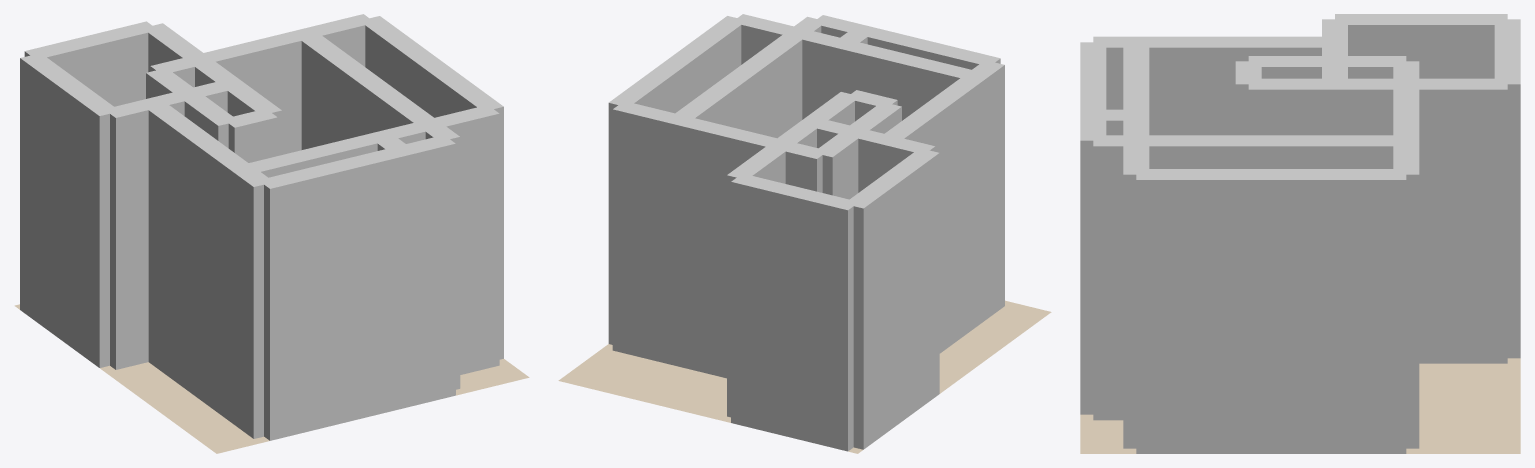
The model's file is 7a4206f9-c593-4dff-bf64-49732ef8d5d3.glb.
3 views of the same model, side by side, from view 1: azimuth 30°, elevation 25°; view 2: azimuth 150°, elevation 25°; view 3: azimuth 270°, elevation 25° (orthographic). The views are drawn at different scales.
Visible parts, largest first — view 1: wall_19, wall_7, wall_1, wall_23, wall_15, wall_12, wall_5, wall_16, wall_14, floor, wall_8, wall_4 (+12 smaller); view 2: wall_8, wall_7, wall_13, wall_4, wall_1, floor, wall_6, wall_5, wall_14, wall_16, wall_9, wall_17 (+11 smaller); view 3: wall_14, wall_9, floor, wall_1, wall_24, wall_5, wall_7, wall_8, wall_13, wall_15, wall_23, wall_3 (+12 smaller).
Boxes of the visible parts, box(x1,y1,x2,y2) form: wall_19: box(259, 147, 407, 440); wall_7: box(20, 53, 119, 367); wall_1: box(143, 101, 254, 424); wall_23: box(398, 135, 455, 407); wall_15: box(426, 105, 499, 374); wall_12: box(110, 90, 194, 369); wall_5: box(296, 31, 439, 149); wall_16: box(234, 169, 273, 438); wall_14: box(360, 16, 503, 359); floor: box(14, 304, 529, 453); wall_8: box(24, 21, 157, 106); wall_4: box(193, 29, 310, 154); wall_8: box(731, 175, 857, 451); wall_7: box(844, 148, 939, 449); wall_13: box(612, 101, 683, 365); wall_4: box(673, 116, 785, 378); wall_1: box(879, 76, 985, 353); floor: box(558, 300, 1051, 453); wall_6: box(794, 29, 981, 120); wall_5: box(670, 31, 807, 138); wall_14: box(608, 16, 745, 344); wall_16: box(972, 62, 1004, 319); wall_9: box(727, 92, 857, 417); wall_17: box(838, 40, 971, 120); wall_14: box(1136, 169, 1406, 453); wall_9: box(1248, 78, 1507, 363); floor: box(1080, 358, 1520, 453); wall_1: box(1136, 36, 1334, 135); wall_24: box(1093, 135, 1136, 420); wall_5: box(1136, 135, 1406, 168); wall_7: box(1335, 14, 1507, 78); wall_8: box(1494, 19, 1520, 358); wall_13: box(1393, 140, 1419, 448); wall_15: box(1123, 140, 1149, 448); wall_23: box(1080, 115, 1106, 414); wall_3: box(1335, 78, 1406, 135).
Size of the model in its own units: 3.64 by 2.8 by 4.08.
